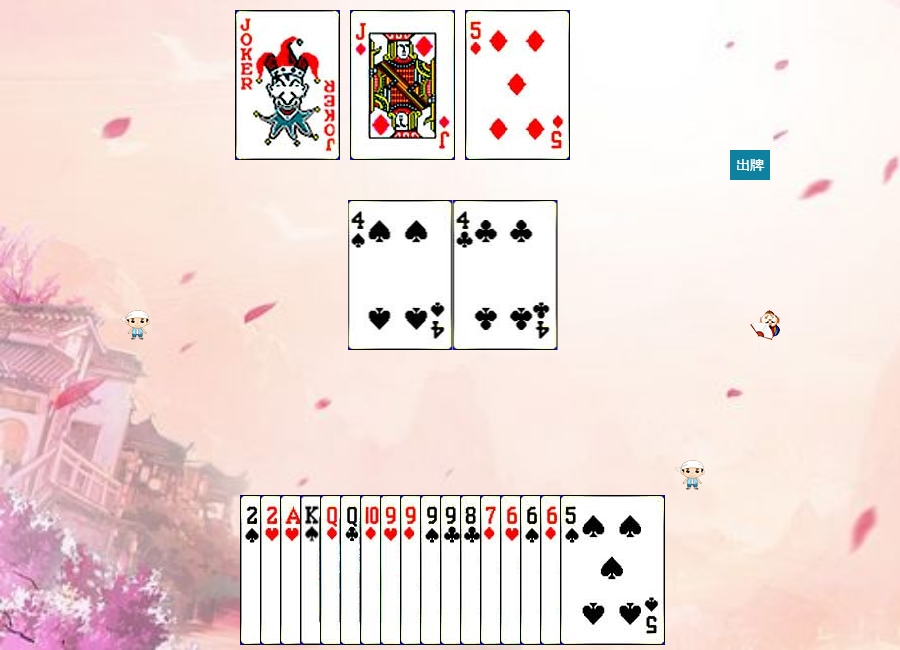10~1: (360, 495, 465, 645)
11~1: (350, 10, 455, 160)
12~1: (320, 495, 425, 645)
12~2: (340, 495, 445, 645)
13~4: (300, 495, 405, 645)
14~3: (280, 495, 385, 645)
15~3: (260, 495, 365, 645)
15~4: (240, 495, 345, 645)
18~4: (235, 10, 340, 160)
4~2: (453, 200, 558, 350)
4~4: (348, 200, 453, 350)
5~1: (465, 10, 570, 160)
5~4: (560, 495, 665, 645)
6~1: (540, 495, 645, 645)
6~3: (500, 495, 605, 645)
6~4: (520, 495, 625, 645)
7~1: (480, 495, 585, 645)
8~2: (460, 495, 565, 645)
9~1: (400, 495, 505, 645)
9~2: (440, 495, 545, 645)
9~3: (380, 495, 485, 645)
9~4: (420, 495, 525, 645)
